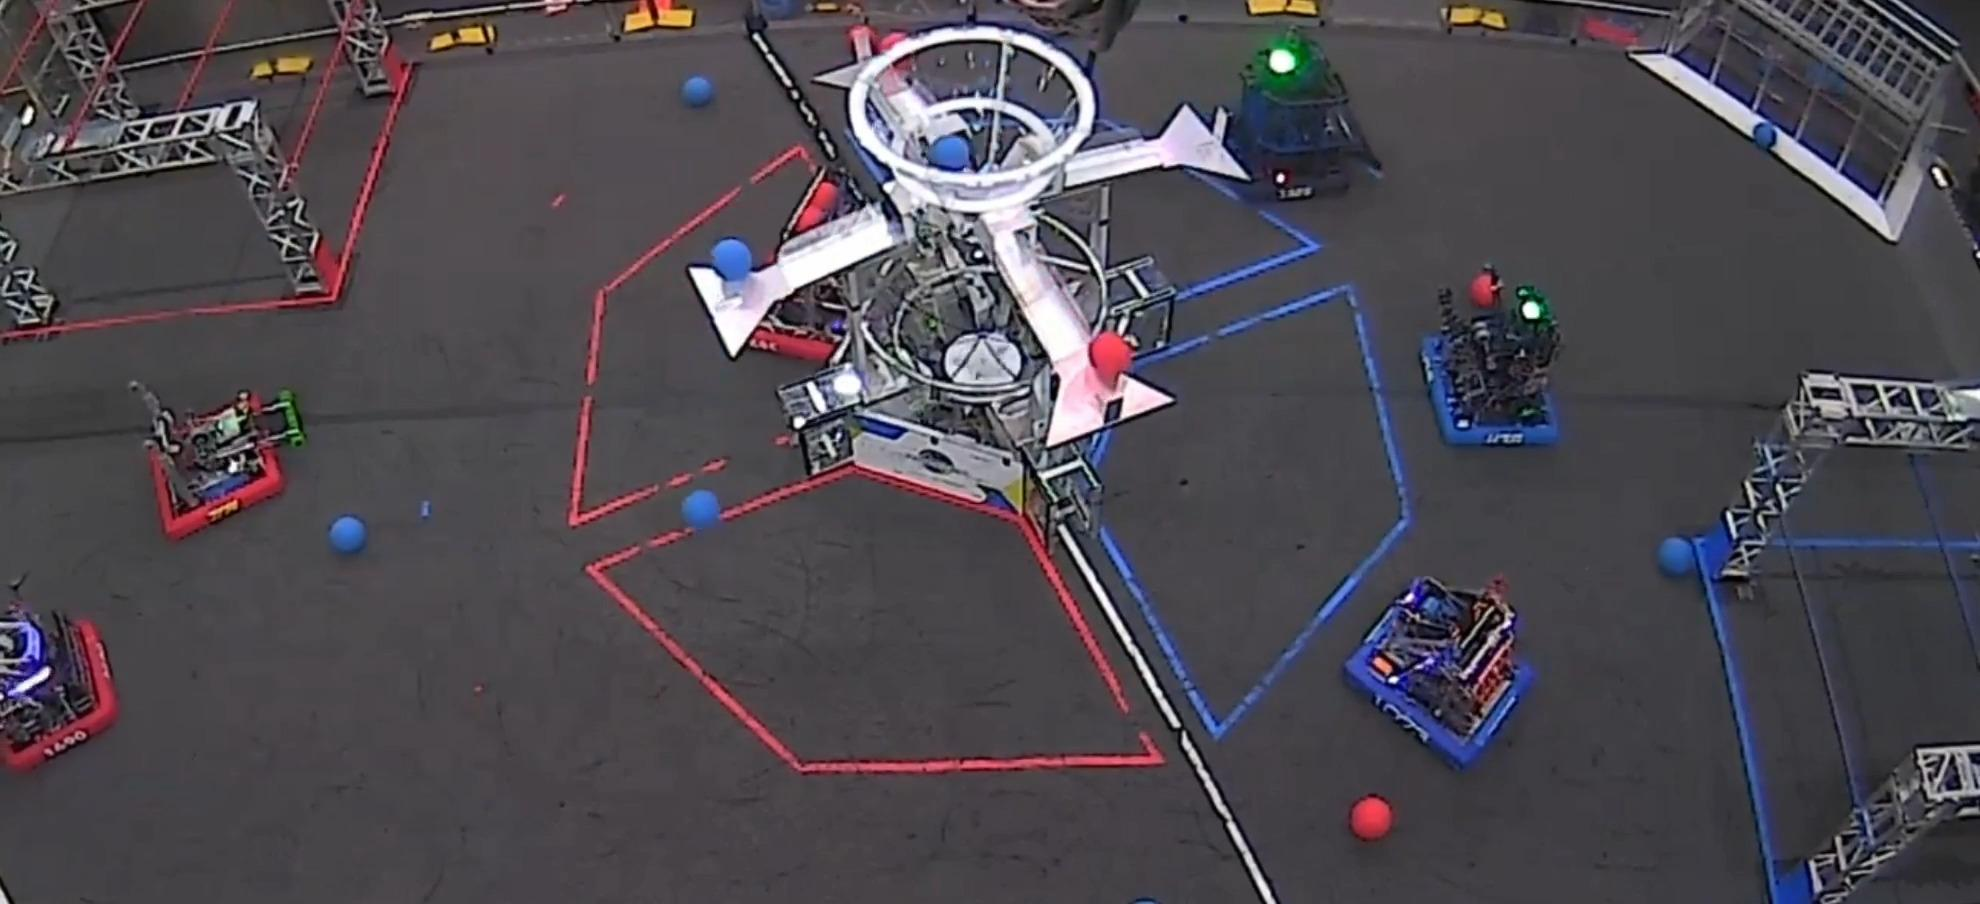Robots: (1347, 578, 1530, 766), (129, 383, 306, 539), (1227, 28, 1381, 199), (1424, 265, 1560, 444), (0, 580, 117, 771), (749, 280, 849, 364)
